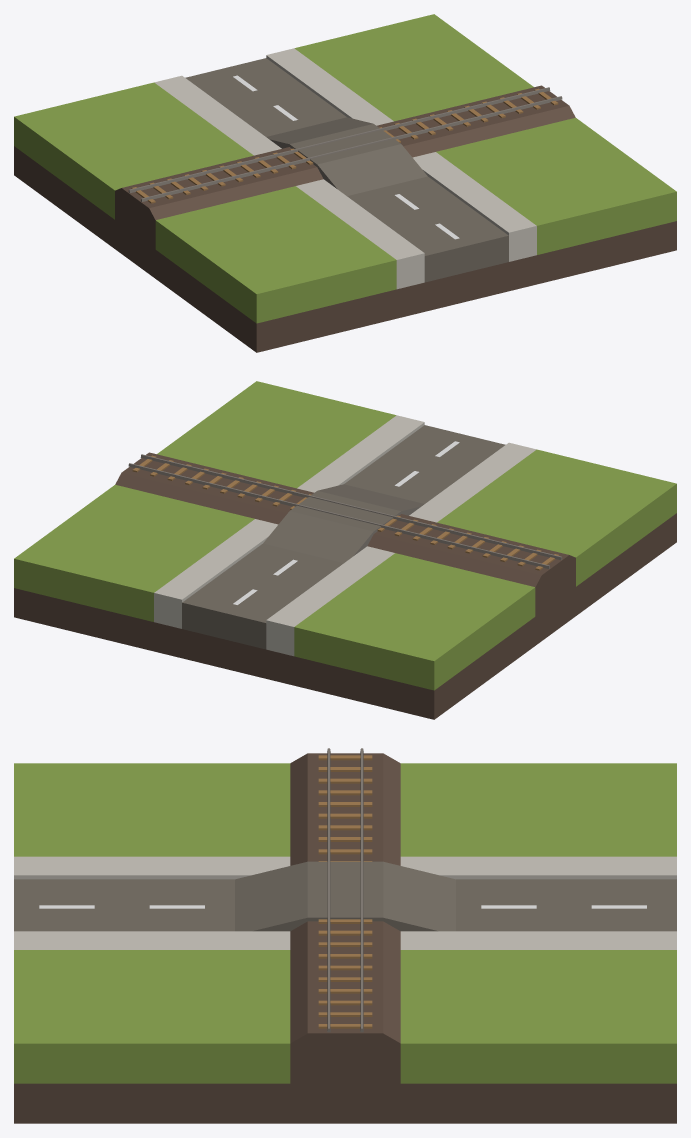
Rendered from rail-tile-road-crossing.fbx.
3 renders of one model, top to bottom at view 1: azimuth 30°, elevation 25°; view 2: azimuth 150°, elevation 25°; view 3: azimuth 270°, elevation 25°, orthographic. The views are drawn at different scales.
Parts seen in each view (by area): view 1: rail-tile-road-crossing; view 2: rail-tile-road-crossing; view 3: rail-tile-road-crossing.
Part boxes in pixels (x1,y1,x2,y2): rail-tile-road-crossing: [14, 14, 676, 352]; rail-tile-road-crossing: [14, 381, 676, 719]; rail-tile-road-crossing: [14, 748, 676, 1123].
Size of the model in its own units: 3000 by 475 by 3000.
